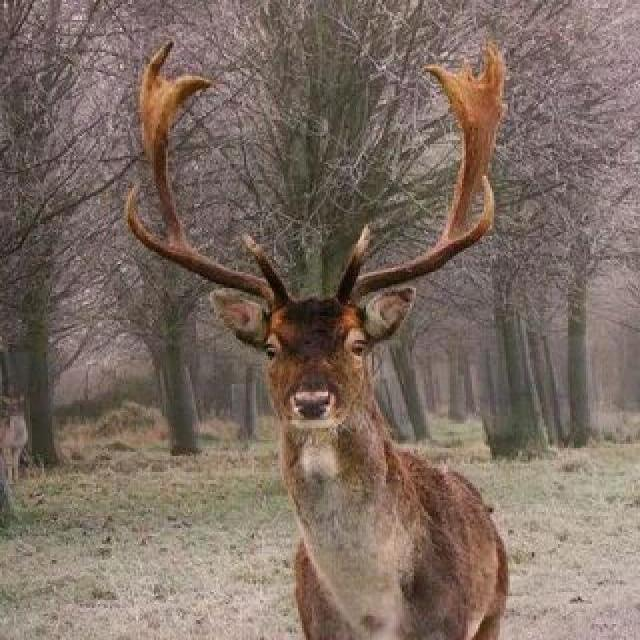deer: (115, 33, 530, 640)
